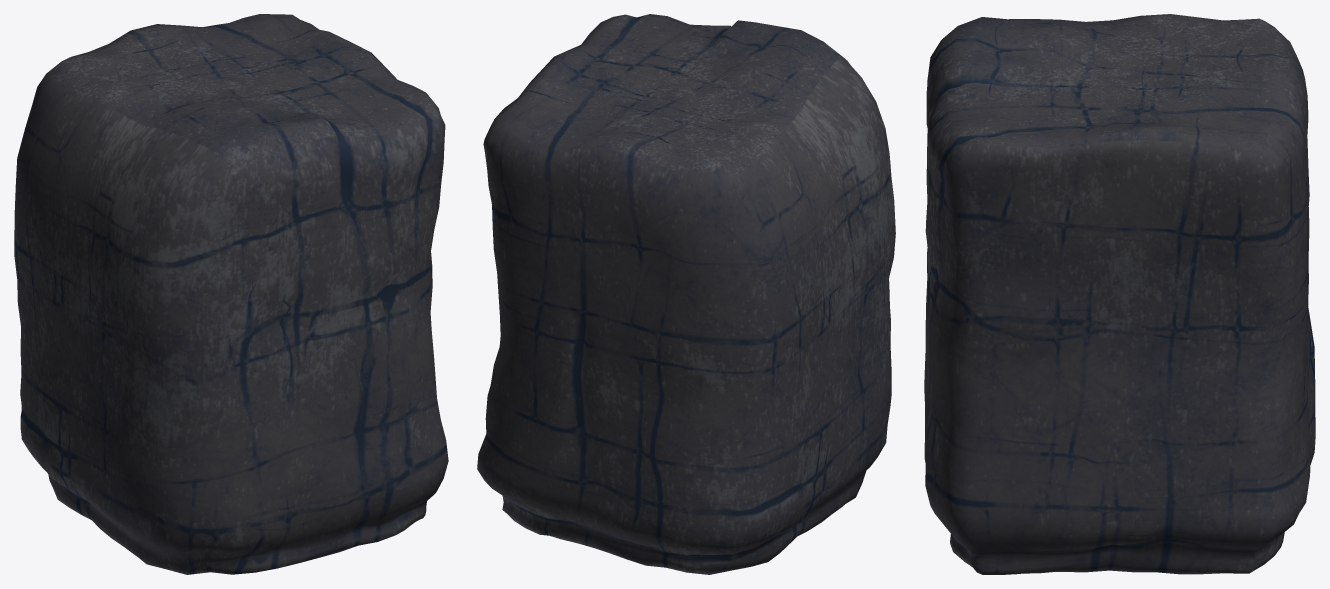
Rendered from gros_block1.obj.
3 renders of one model, left to right at view 1: azimuth 30°, elevation 25°; view 2: azimuth 150°, elevation 25°; view 3: azimuth 270°, elevation 25°, orthographic. The views are drawn at different scales.
Visible parts, largest first — view 1: gros_block1:ZBrush_defualt_group; view 2: gros_block1:ZBrush_defualt_group; view 3: gros_block1:ZBrush_defualt_group.
Boxes of the visible parts, x1=… form: gros_block1:ZBrush_defualt_group: x1=14, y1=14, x2=448, y2=574; gros_block1:ZBrush_defualt_group: x1=477, y1=14, x2=895, y2=574; gros_block1:ZBrush_defualt_group: x1=924, y1=14, x2=1315, y2=574.
Size of the model in its own units: 3604 by 4927 by 3781.
1 material, 1 textured.
